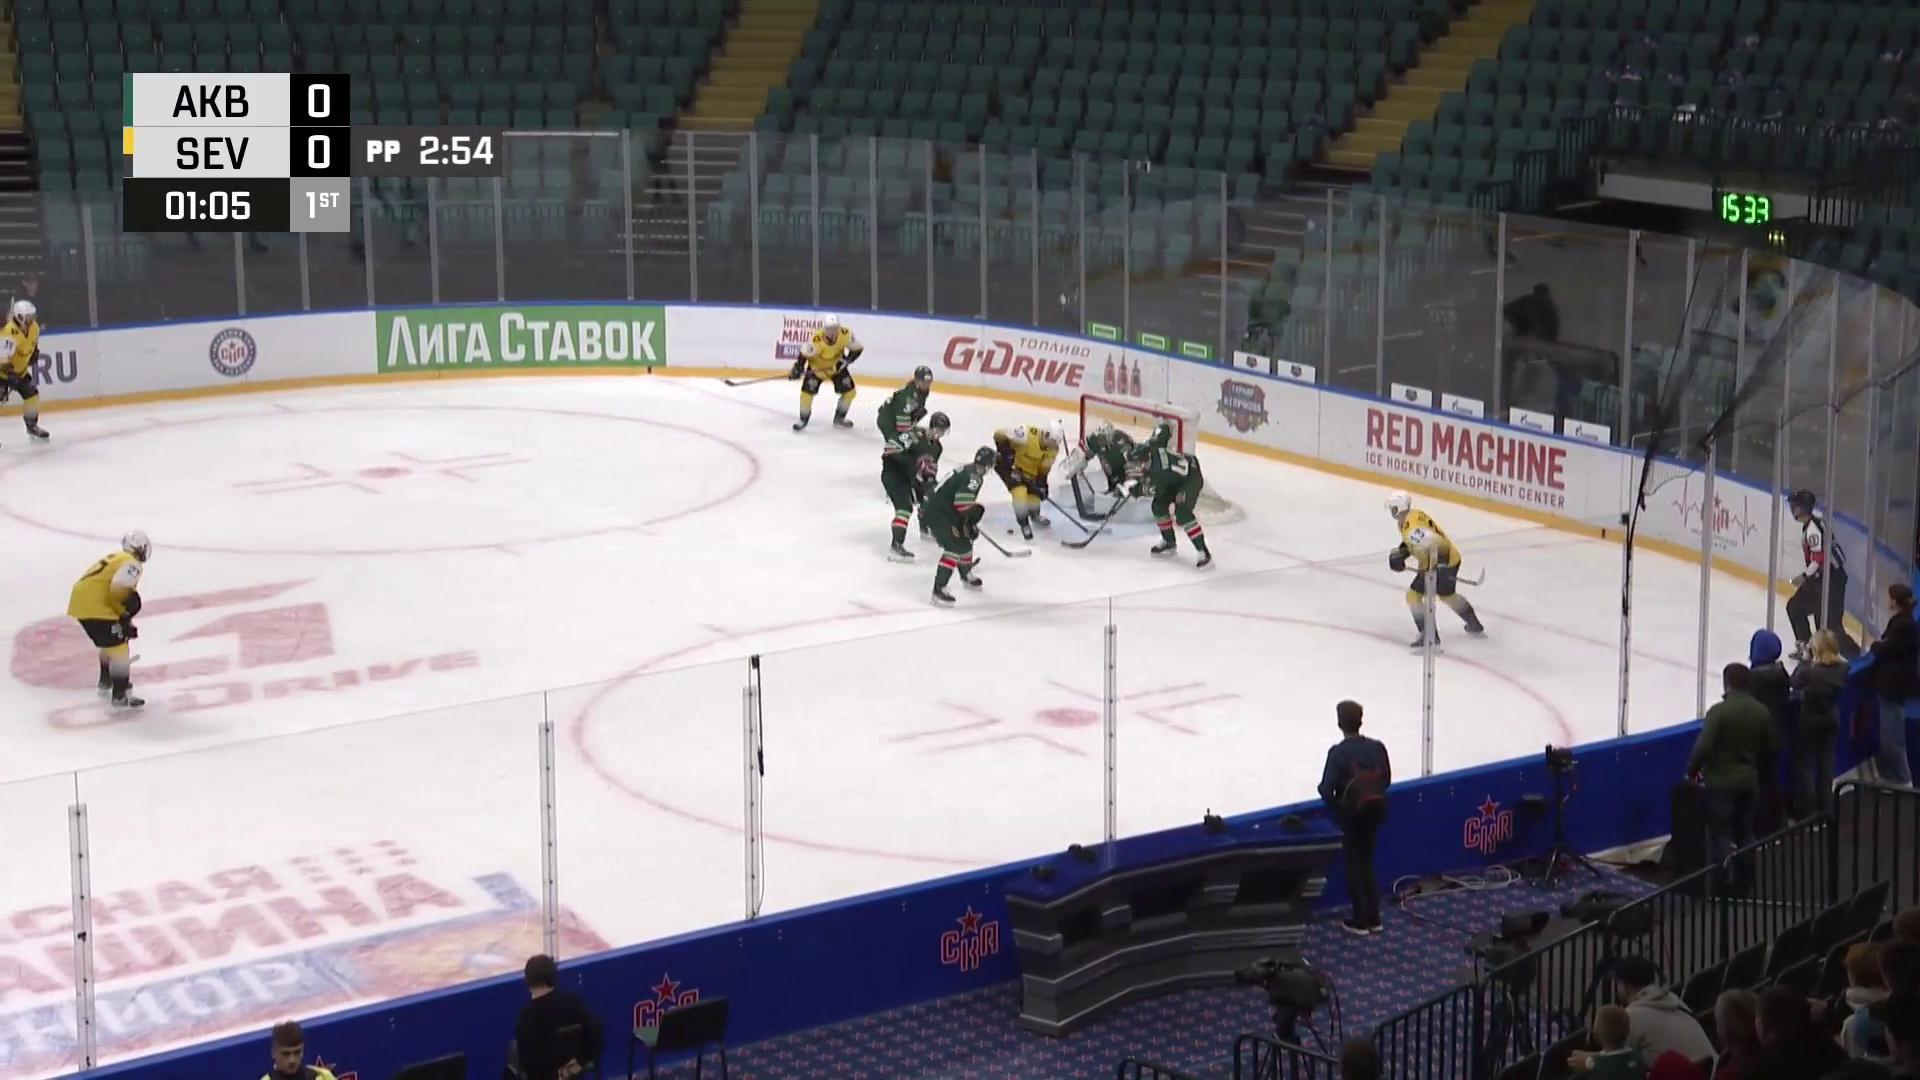ball: (1005, 529, 1014, 537)
